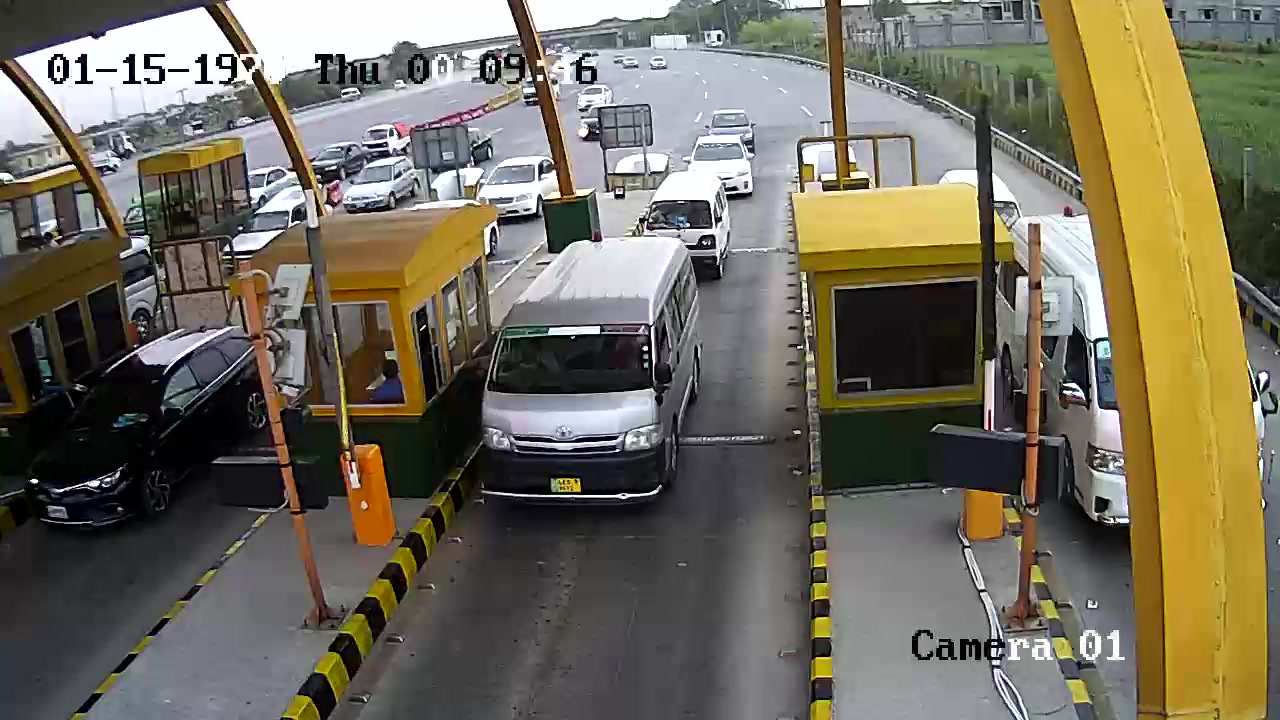F2: (472, 220, 701, 512)
